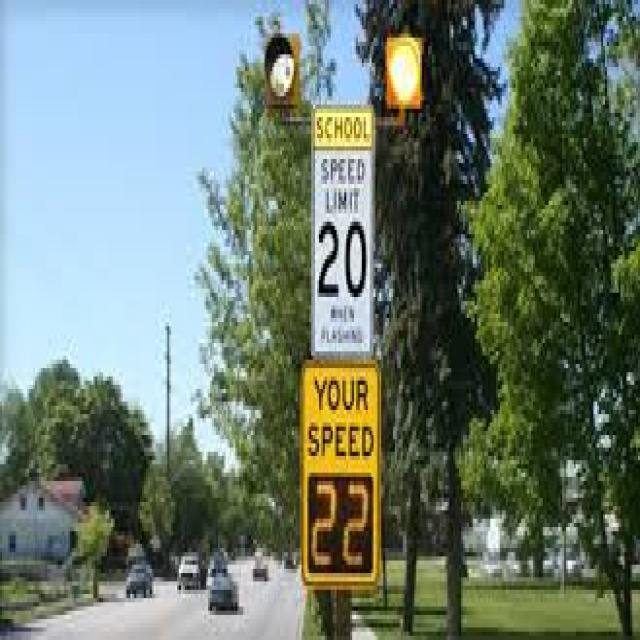speedLimit20: (312, 155, 374, 305)
